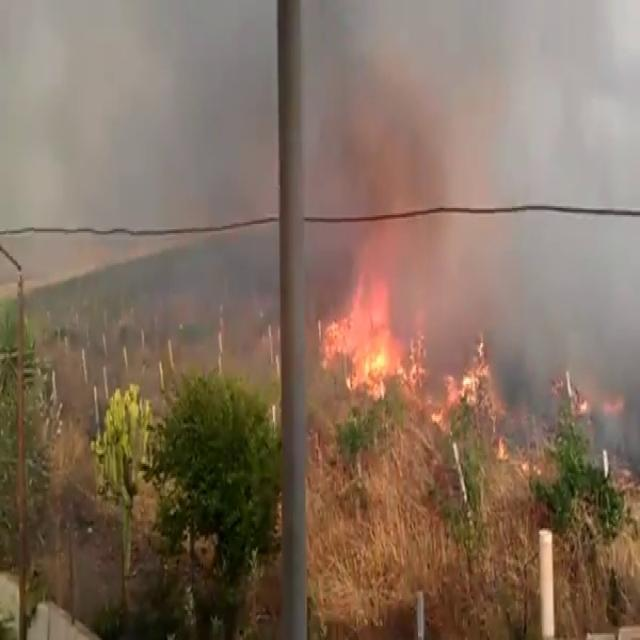Fire: (318, 260, 412, 400)
Smoke: (290, 0, 640, 503), (0, 0, 277, 359)
